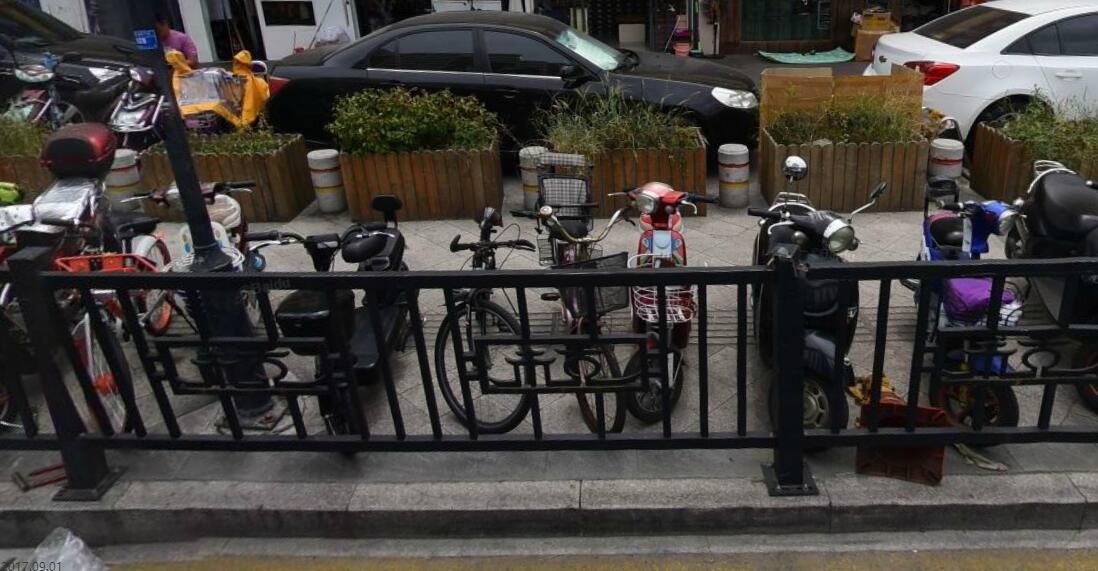side: (829, 478, 1088, 536), (349, 480, 582, 543), (584, 480, 832, 538), (117, 482, 350, 541)
